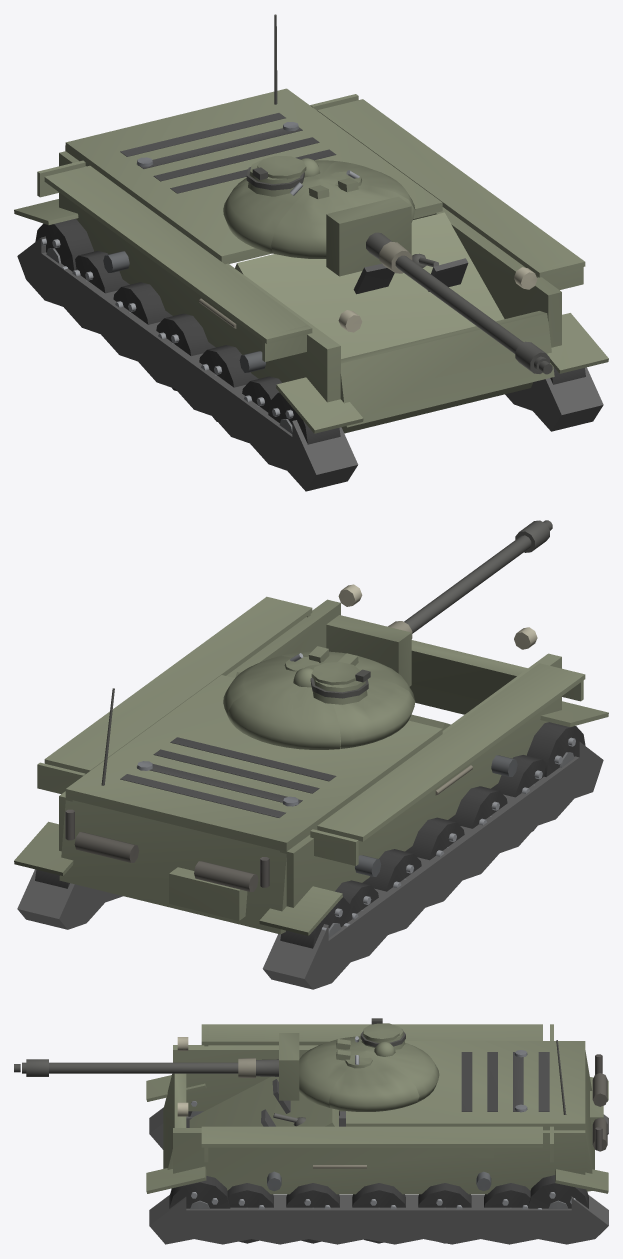
3 renders of one model, top to bottom at view 1: azimuth 30°, elevation 25°; view 2: azimuth 150°, elevation 25°; view 3: azimuth 270°, elevation 25°, orthographic. The views are drawn at different scales.
Visible parts, largest first — view 1: hullSide, tracks, hullTop, glacis, lowerPlate, mantlet, turretSide, turretFront, barrel, turretRoof, wheel6, wheel2 (+5 smaller); view 2: hullSide, hullTop, tracks, hullRear, turretRear, lowerPlate, turretSide, mantlet, turretRoof, barrel, wheel5, wheel2 (+6 smaller); view 3: hullSide, tracks, hullTop, glacis, turretSide, barrel, turretFront, hullRear, turretRoof, turretRear, wheel12, lowerPlate (+7 smaller).
Part boxes in pixels (<box>): hullSide: <box>37,94,585,402</box>; tracks: <box>14,199,608,491</box>; hullTop: <box>65,88,442,264</box>; glacis: <box>235,212,533,433</box>; lowerPlate: <box>340,311,554,427</box>; mantlet: <box>326,196,411,276</box>; turretSide: <box>223,161,415,253</box>; turretFront: <box>271,179,415,258</box>; barrel: <box>366,232,552,374</box>; turretRoof: <box>246,156,361,199</box>; wheel6: <box>35,219,93,271</box>; wheel2: <box>156,313,215,390</box>; hullSide: <box>37,584,585,907</box>; hullTop: <box>65,675,442,851</box>; tracks: <box>14,701,608,989</box>; hullRear: <box>59,688,288,934</box>; turretRear: <box>227,676,340,749</box>; lowerPlate: <box>409,640,527,714</box>; turretSide: <box>223,655,415,748</box>; mantlet: <box>326,615,411,686</box>; turretRoof: <box>284,646,370,704</box>; barrel: <box>388,520,552,638</box>; wheel5: <box>527,722,585,776</box>; wheel2: <box>405,817,464,860</box>; hullSide: <box>173,1024,585,1194</box>; tracks: <box>146,1075,608,1244</box>; hullTop: <box>346,1041,585,1130</box>; glacis: <box>189,1076,338,1127</box>; turretSide: <box>329,1036,419,1111</box>; barrel: <box>14,1058,278,1078</box>; turretFront: <box>299,1039,364,1107</box>; hullRear: <box>556,1040,607,1191</box>; turretRoof: <box>336,1018,405,1068</box>; turretRear: <box>366,1044,439,1101</box>; wheel12: <box>169,1176,230,1209</box>; lowerPlate: <box>163,1073,186,1169</box>.
Size of the model in its own units: 4.18 by 2.98 by 8.8.
